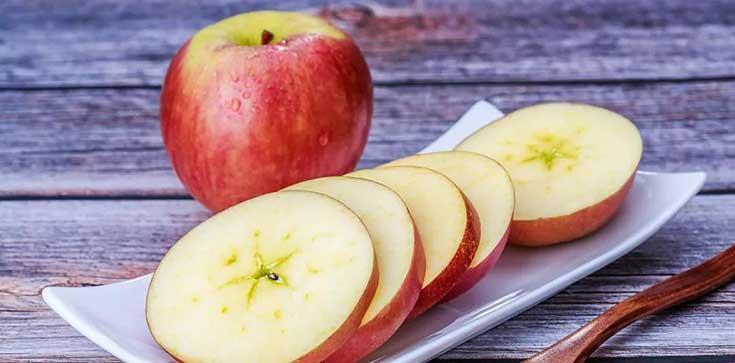apple: (154, 8, 373, 216)
